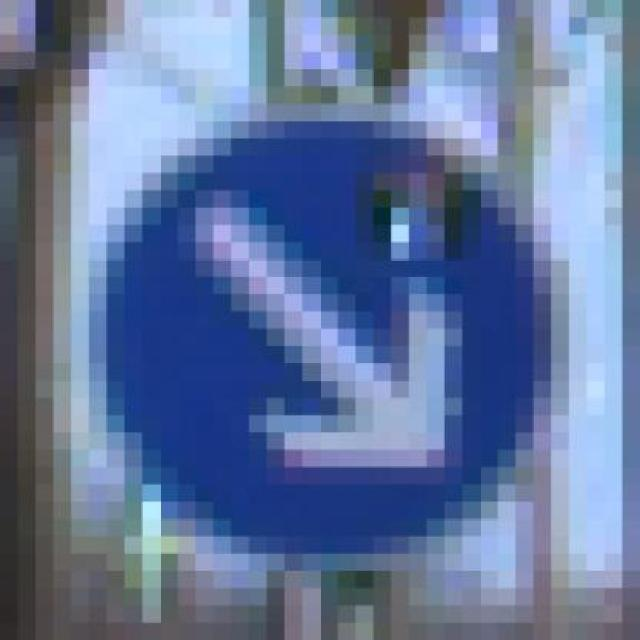Keep-Right: (53, 86, 604, 571)
